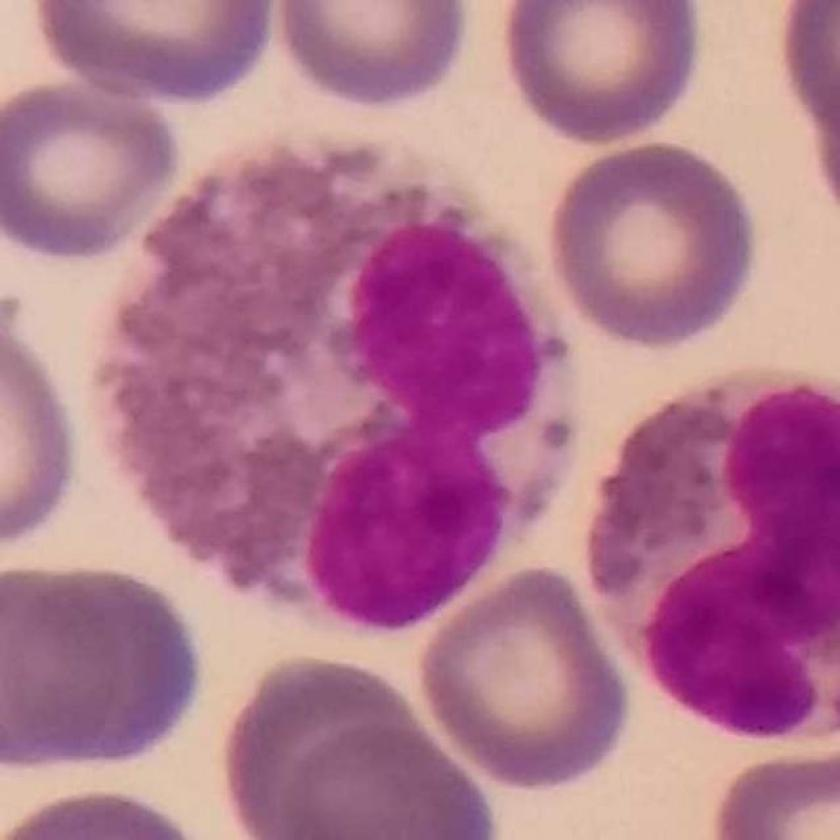eosinophil: (93, 133, 582, 633), (586, 365, 840, 747)
